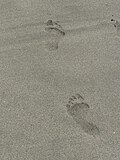human_footprint: (66, 94, 99, 136), (66, 93, 89, 118), (45, 20, 64, 50)
